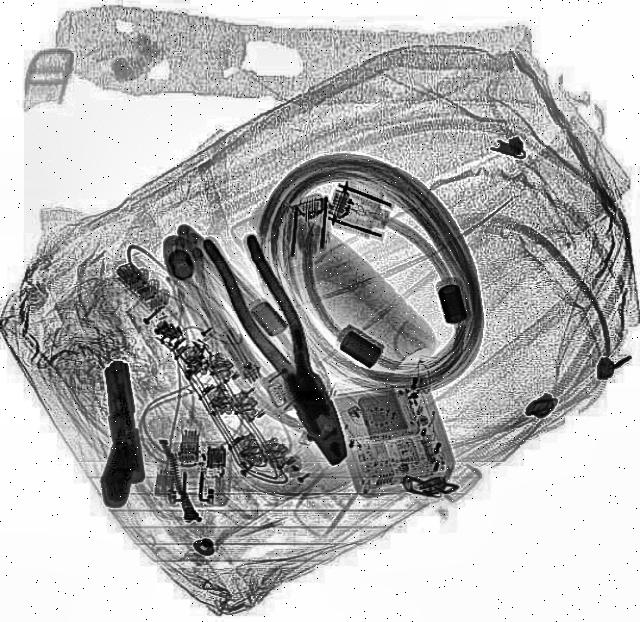Gun: (82, 357, 152, 509)
Pliers: (198, 218, 370, 472)
